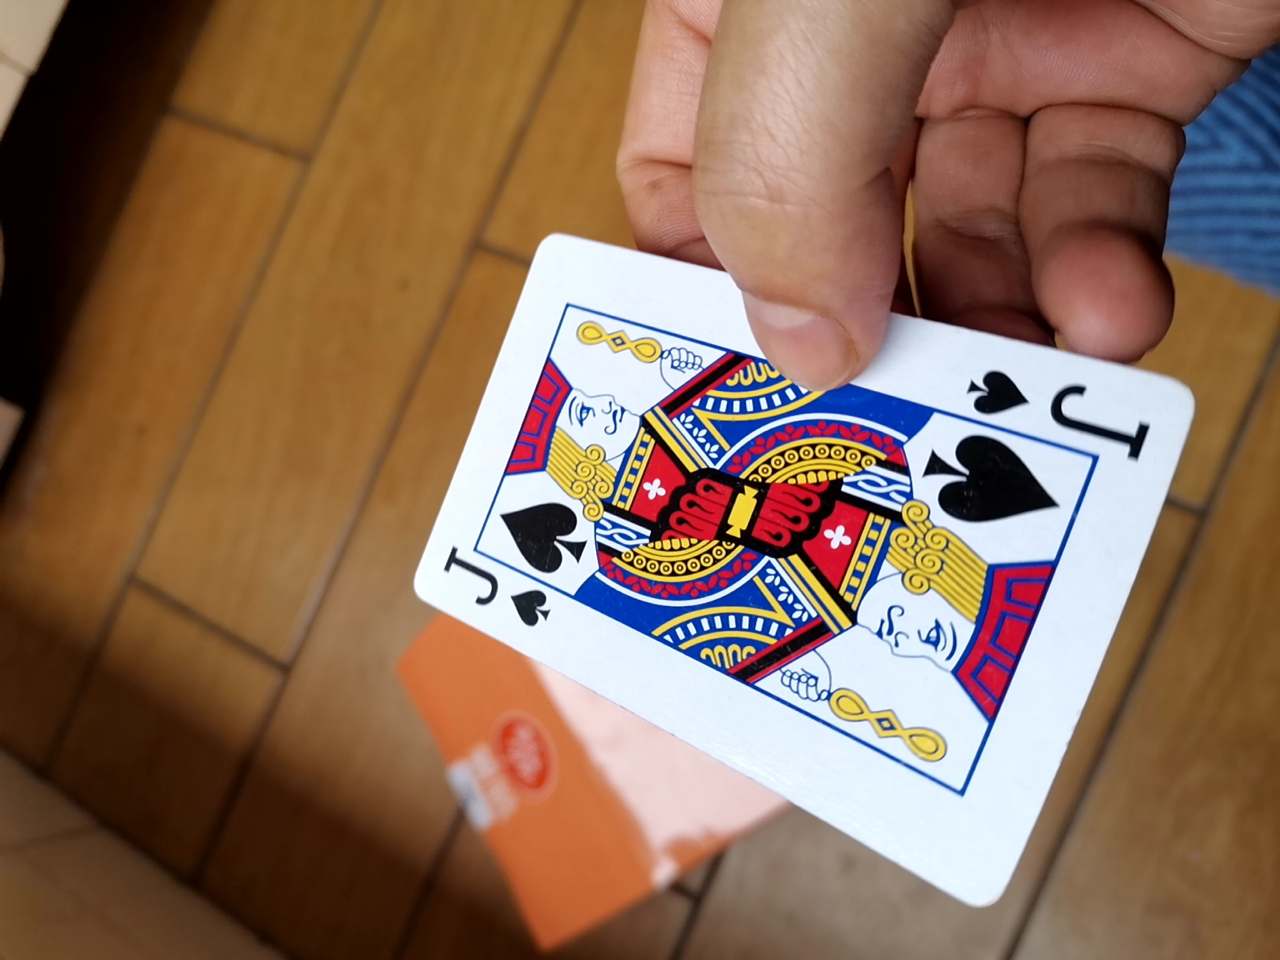ht j: (400, 211, 1194, 898)
